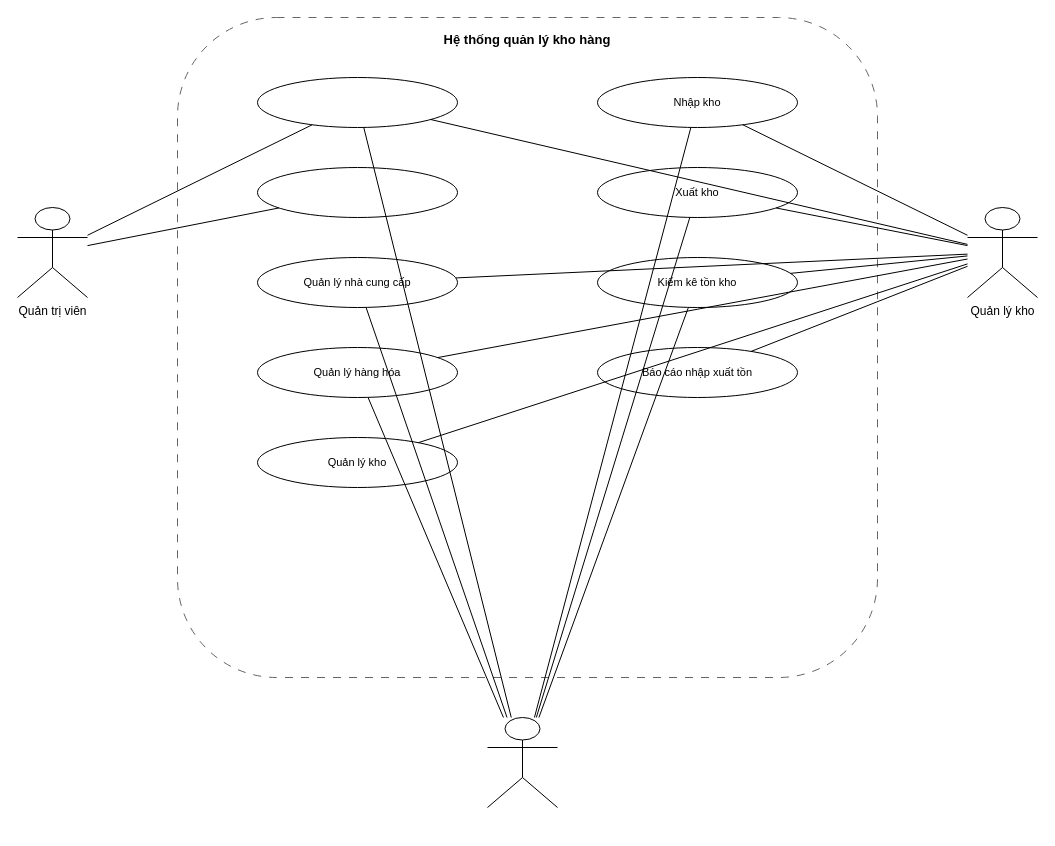
Image size: 1055x846. Some labels were removed from this diagram. Here are the shapes that lost their labels. From the top down, the centre of each, then its label:
At point (357, 102): "Đăng nhập / Đăng xuất".
At point (357, 192): "Quản lý tài khoản".
At point (522, 762): "Nhân viên kho".
